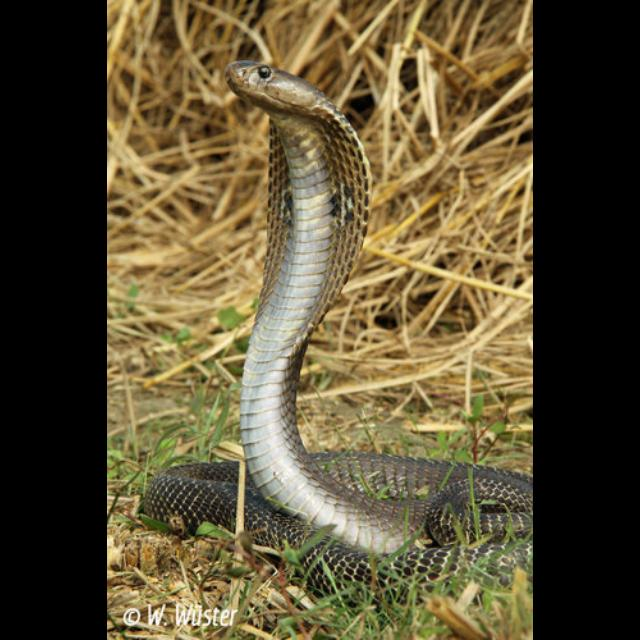snake: (140, 61, 524, 594)
